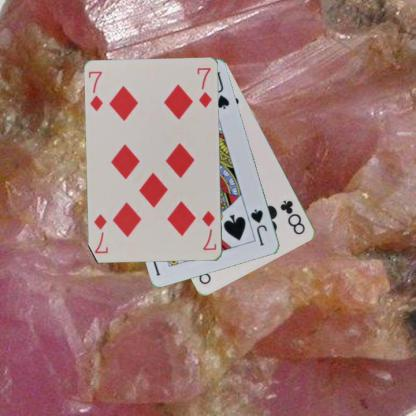7d: (199, 208, 218, 252), (87, 68, 104, 112)
8c: (277, 197, 307, 236)
Js: (248, 206, 269, 247)
